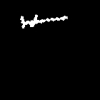double_crochet: (20, 15, 66, 27)
